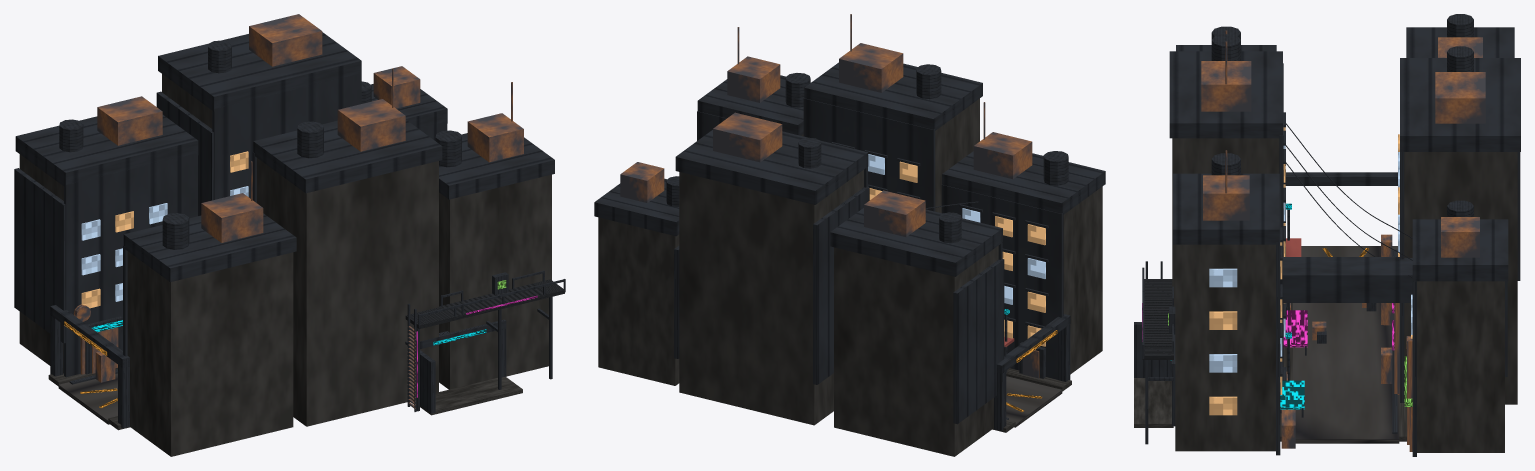
The model's file is Hesperus_CourtyardForemarket.glb.
3 renders of one model, left to right at view 1: azimuth 30°, elevation 25°; view 2: azimuth 150°, elevation 25°; view 3: azimuth 270°, elevation 25°, orthographic. The views are drawn at different scales.
Parts seen in each view (by area): view 1: FM_Tenement_Mass, FM_ApartmentAnnex_Mass, FM_CornerHab_Mass, FM_ClinicBlock_StreetFrame, FM_WorkerHab_RoofParapet, FM_WorkerHab_StreetFrame, FM_ClinicBlock_SideRib, FM_Tenement_RoofParapet, FM_ClinicBlock_RoofParapet, FM_ApartmentAnnex_RoofParapet, FM_CornerHab_RoofParapet, FM_WorkerHab_RoofPlant (+23 smaller); view 2: FM_WorkerHab_Mass, FM_ClinicBlock_Mass, FM_UtilityCorner_Mass, FM_ApartmentAnnex_StreetFrame, FM_WorkerHab_RoofParapet, FM_Tenement_StreetFrame, FM_ClinicBlock_SideRib, FM_ApartmentAnnex_Mass, FM_ClinicBlock_RoofParapet, FM_Tenement_RoofParapet, FM_ApartmentAnnex_RoofParapet, FM_WorkerHab_SideRib (+20 smaller); view 3: FM_CornerHab_Mass, FM_UtilityCorner_Mass, FM_Road_Main, FM_WorkerHab_Mass, FM_WorkerHab_RoofParapet, FM_Tenement_RoofParapet, FM_OverheadBridge, FM_CornerHab_RoofParapet, FM_UtilityCorner_RoofParapet, FM_Tenement_Mass, FM_WorkerHab_RoofPlant, FM_Tenement_RoofHut (+31 smaller).
Boxes of the visible parts, x1,y1,x2,y2 form: FM_Tenement_Mass: [257, 158, 438, 426]; FM_ApartmentAnnex_Mass: [127, 251, 293, 456]; FM_CornerHab_Mass: [439, 174, 551, 389]; FM_ClinicBlock_StreetFrame: [64, 153, 197, 377]; FM_WorkerHab_RoofParapet: [158, 32, 361, 111]; FM_WorkerHab_StreetFrame: [212, 73, 361, 199]; FM_ClinicBlock_SideRib: [14, 168, 65, 343]; FM_Tenement_RoofParapet: [253, 119, 442, 193]; FM_ClinicBlock_RoofParapet: [15, 115, 198, 187]; FM_ApartmentAnnex_RoofParapet: [123, 213, 296, 282]; FM_CornerHab_RoofParapet: [439, 133, 554, 199]; FM_WorkerHab_RoofPlant: [249, 14, 322, 66]; FM_WorkerHab_Mass: [679, 170, 863, 425]; FM_ClinicBlock_Mass: [834, 245, 998, 456]; FM_UtilityCorner_Mass: [598, 217, 679, 385]; FM_ApartmentAnnex_StreetFrame: [941, 184, 1063, 379]; FM_WorkerHab_RoofParapet: [675, 130, 868, 204]; FM_Tenement_StreetFrame: [803, 98, 935, 211]; FM_ClinicBlock_SideRib: [953, 259, 1004, 424]; FM_ApartmentAnnex_Mass: [1063, 186, 1102, 374]; FM_ClinicBlock_RoofParapet: [830, 208, 1002, 276]; FM_Tenement_RoofParapet: [804, 62, 982, 130]; FM_ApartmentAnnex_RoofParapet: [942, 151, 1105, 214]; FM_WorkerHab_SideRib: [813, 186, 869, 384]; FM_CornerHab_Mass: [1175, 244, 1275, 451]; FM_UtilityCorner_Mass: [1417, 281, 1504, 452]; FM_Road_Main: [1292, 246, 1399, 443]; FM_WorkerHab_Mass: [1404, 152, 1517, 404]; FM_WorkerHab_RoofParapet: [1400, 58, 1520, 151]; FM_Tenement_RoofParapet: [1169, 51, 1282, 138]; FM_OverheadBridge: [1280, 257, 1412, 302]; FM_CornerHab_RoofParapet: [1173, 173, 1279, 244]; FM_UtilityCorner_RoofParapet: [1412, 219, 1508, 281]; FM_Tenement_Mass: [1172, 138, 1279, 306]; FM_WorkerHab_RoofPlant: [1435, 72, 1485, 123]; FM_Tenement_RoofHut: [1201, 61, 1251, 111].
Size of the model in its own units: 38.75 by 29.66 by 30.4.
Materials: 12 (12 with a texture image).
